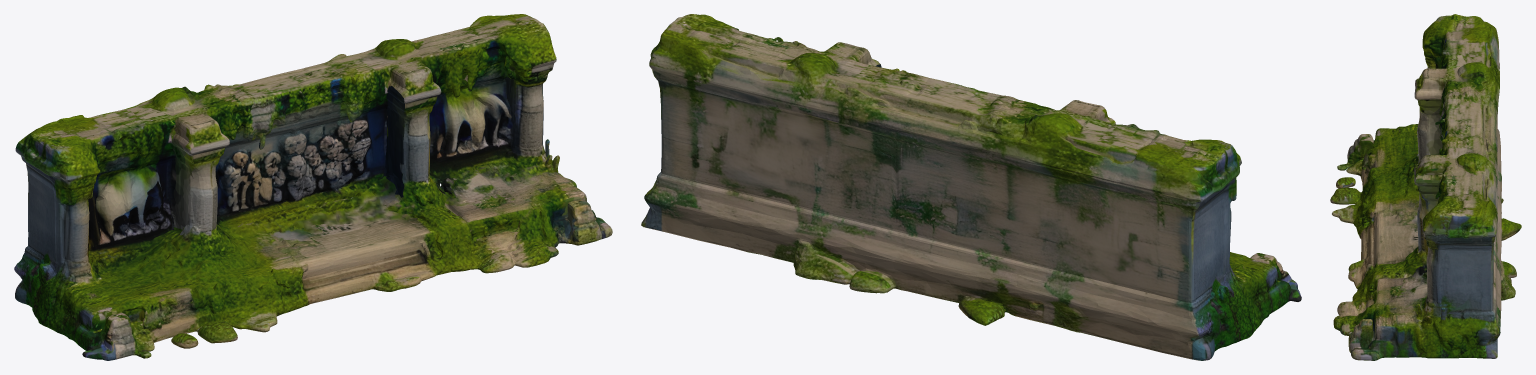
The model's file is mossy-sculpted-frieze-panel-optimized.glb.
3 views of the same model, side by side, from view 1: azimuth 30°, elevation 25°; view 2: azimuth 150°, elevation 25°; view 3: azimuth 270°, elevation 25° (orthographic). The views are drawn at different scales.
Parts seen in each view (by area): view 1: 82f62e3c-504c-4d79-b30b-2489be4a001e_texturing.obj; view 2: 82f62e3c-504c-4d79-b30b-2489be4a001e_texturing.obj; view 3: 82f62e3c-504c-4d79-b30b-2489be4a001e_texturing.obj.
Boxes of the visible parts, bbox=[...] form: 82f62e3c-504c-4d79-b30b-2489be4a001e_texturing.obj: bbox=[14, 14, 612, 360]; 82f62e3c-504c-4d79-b30b-2489be4a001e_texturing.obj: bbox=[641, 14, 1301, 360]; 82f62e3c-504c-4d79-b30b-2489be4a001e_texturing.obj: bbox=[1330, 14, 1521, 360].
Size of the model in its own units: 3 by 0.9868 by 1.15.
1 material, 1 textured.
